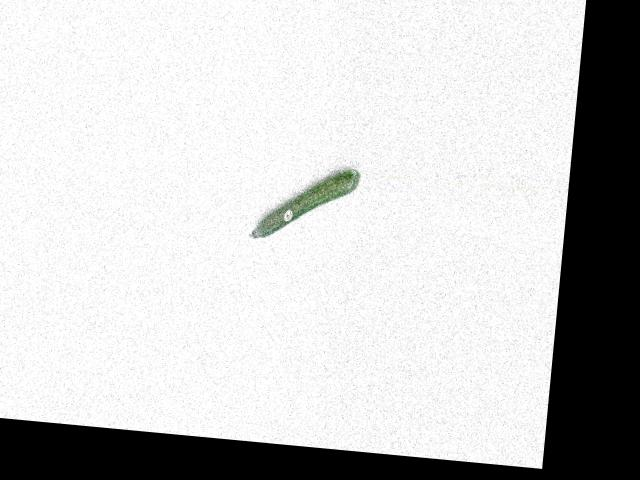cucumber: (248, 160, 359, 247)
